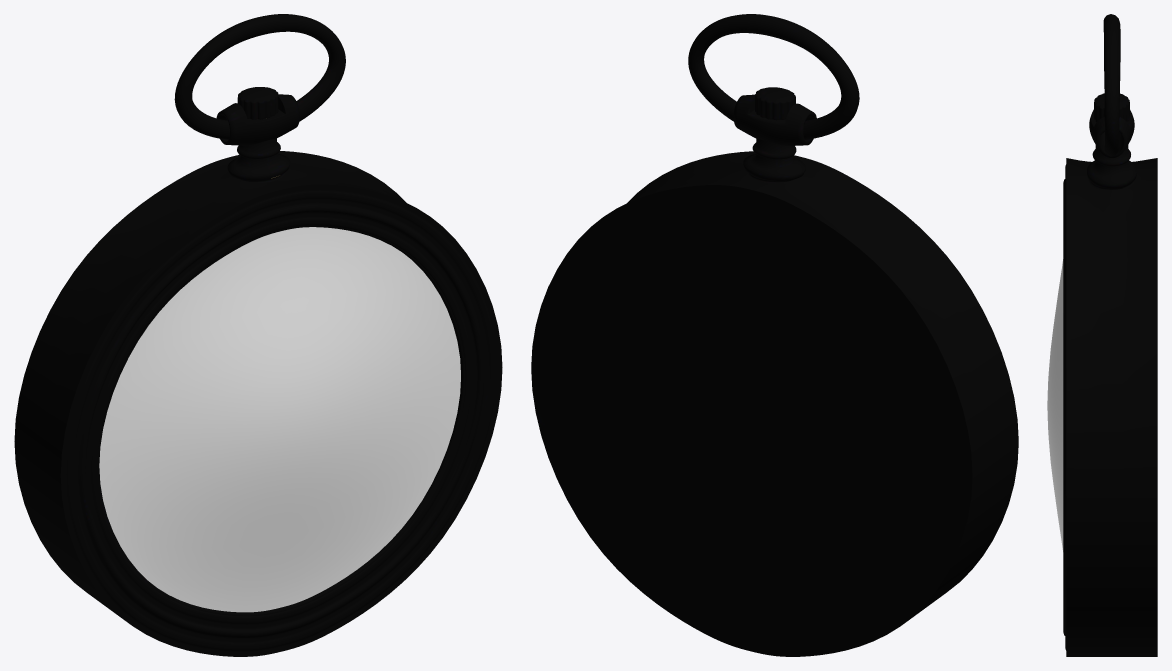
Rendered from MH004_Clock_03.gltf.
3 views of the same model, side by side, from view 1: azimuth 30°, elevation 25°; view 2: azimuth 150°, elevation 25°; view 3: azimuth 270°, elevation 25° (orthographic).
Parts seen in each view (by area): view 1: Glass, Base; view 2: Base; view 3: Base, Glass.
Part boxes in pixels (x1,y1,x2,y2): Glass: [99, 227, 460, 612]; Base: [14, 14, 502, 656]; Base: [531, 14, 1018, 656]; Base: [1063, 14, 1157, 656]; Glass: [1047, 259, 1063, 551].
Bounding box in the file's own units: 0.375 × 0.5005 × 0.082.
2 materials, 1 textured.
